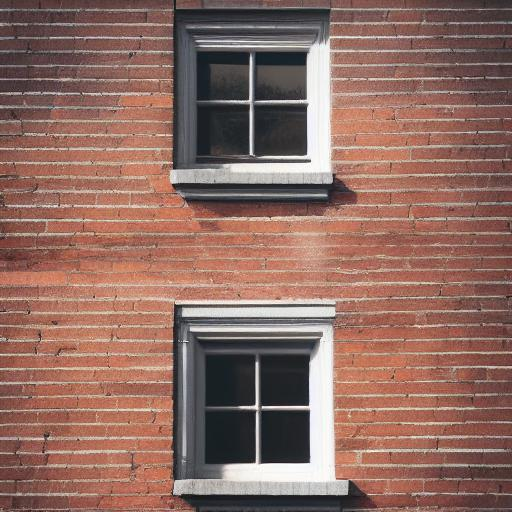Window: (169, 5, 371, 512)
